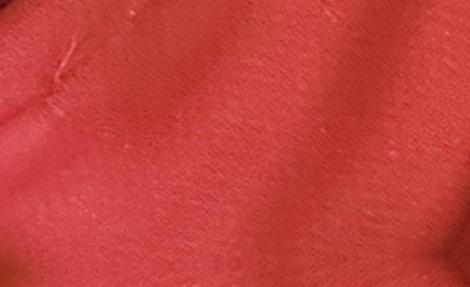snag: (46, 34, 85, 93)
